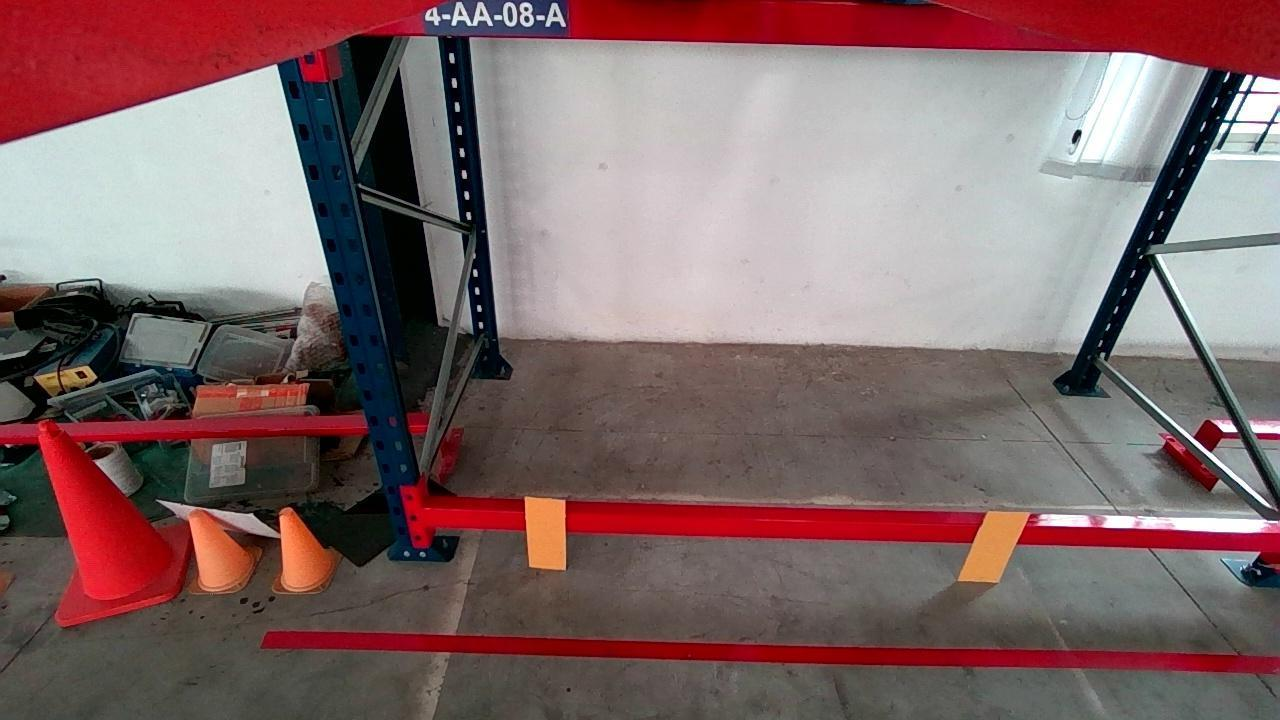h_rack: (362, 0, 1114, 51), (424, 501, 1280, 545)
orange_strip: (962, 510, 1029, 583), (526, 496, 565, 570)
red_line: (261, 632, 1278, 675)
